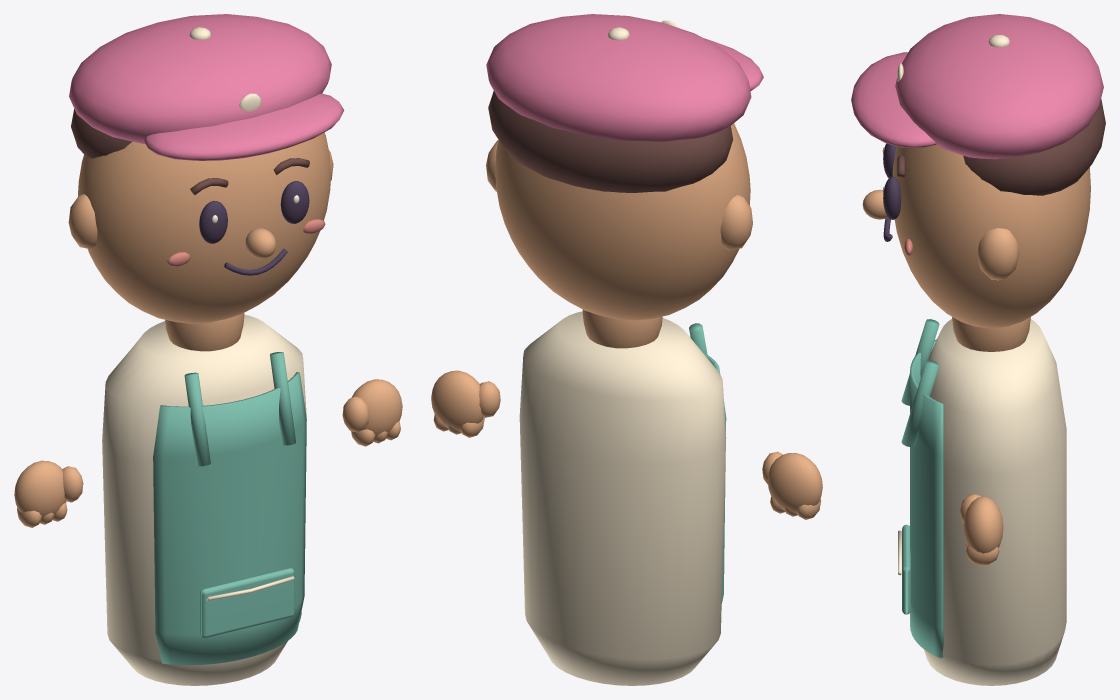
File: Floating_Staff.fbx
3 renders of one model, left to right at view 1: azimuth 30°, elevation 25°; view 2: azimuth 150°, elevation 25°; view 3: azimuth 270°, elevation 25°, orthographic. The views are drawn at different scales.
Parts seen in each view (by area): view 1: People_Floating_crew_Staff Wrap apron.001, People_Floating_crew_Staff Cheek shaped head.001, People_Floating_crew_Staff Tailored torso.001, People_Floating_crew_Staff Cap crown.001, People_Floating_crew_Staff Cap visor.001, People_Floating_crew_Staff Apron pocket.001, People_Floating_crew_Staff Mitten palm.002, People_Floating_crew_Staff Neck.001, People_Floating_crew_Staff Mitten palm.003, People_Floating_crew_Staff Apron strap.002, People_Floating_crew_Staff Hair at nape.001, People_Floating_crew_Staff Apron strap.003 (+6 smaller); view 2: People_Floating_crew_Staff Tailored torso.001, People_Floating_crew_Staff Cheek shaped head.001, People_Floating_crew_Staff Cap crown.001, People_Floating_crew_Staff Hair at nape.001, People_Floating_crew_Staff Mitten palm.002, People_Floating_crew_Staff Mitten palm.003, People_Floating_crew_Staff Neck.001, People_Floating_crew_Staff Ear.002, People_Floating_crew_Staff Cap visor.001, People_Floating_crew_Staff Thumb.003; view 3: People_Floating_crew_Staff Tailored torso.001, People_Floating_crew_Staff Cap crown.001, People_Floating_crew_Staff Cheek shaped head.001, People_Floating_crew_Staff Wrap apron.001, People_Floating_crew_Staff Hair at nape.001, People_Floating_crew_Staff Cap visor.001, People_Floating_crew_Staff Mitten palm.003, People_Floating_crew_Staff Neck.001, People_Floating_crew_Staff Ear.003, People_Floating_crew_Staff Apron strap.003, People_Floating_crew_Staff Apron strap.002, People_Floating_crew_Staff Apron pocket.001 (+3 smaller).
Boxes of the visible parts, bbox=[...] form: People_Floating_crew_Staff Wrap apron.001: bbox=[153, 372, 306, 665]; People_Floating_crew_Staff Cheek shaped head.001: bbox=[78, 132, 330, 323]; People_Floating_crew_Staff Tailored torso.001: bbox=[102, 315, 306, 685]; People_Floating_crew_Staff Cap crown.001: bbox=[69, 14, 331, 144]; People_Floating_crew_Staff Cap visor.001: bbox=[143, 93, 344, 160]; People_Floating_crew_Staff Apron pocket.001: bbox=[200, 568, 294, 637]; People_Floating_crew_Staff Mitten palm.002: bbox=[14, 460, 66, 519]; People_Floating_crew_Staff Neck.001: bbox=[165, 313, 244, 351]; People_Floating_crew_Staff Mitten palm.003: bbox=[351, 379, 402, 437]; People_Floating_crew_Staff Apron strap.002: bbox=[184, 372, 210, 466]; People_Floating_crew_Staff Hair at nape.001: bbox=[71, 109, 132, 158]; People_Floating_crew_Staff Apron strap.003: bbox=[270, 352, 295, 445]; People_Floating_crew_Staff Tailored torso.001: bbox=[519, 311, 726, 685]; People_Floating_crew_Staff Cheek shaped head.001: bbox=[495, 123, 750, 320]; People_Floating_crew_Staff Cap crown.001: bbox=[486, 14, 751, 141]; People_Floating_crew_Staff Hair at nape.001: bbox=[488, 91, 733, 192]; People_Floating_crew_Staff Mitten palm.002: bbox=[767, 452, 822, 514]; People_Floating_crew_Staff Mitten palm.003: bbox=[431, 370, 483, 432]; People_Floating_crew_Staff Neck.001: bbox=[582, 309, 662, 348]; People_Floating_crew_Staff Ear.002: bbox=[720, 195, 752, 250]; People_Floating_crew_Staff Cap visor.001: bbox=[704, 38, 763, 91]; People_Floating_crew_Staff Thumb.003: bbox=[479, 381, 500, 417]; People_Floating_crew_Staff Tailored torso.001: bbox=[923, 319, 1066, 685]; People_Floating_crew_Staff Cap crown.001: bbox=[895, 14, 1103, 159]; People_Floating_crew_Staff Cheek shaped head.001: bbox=[892, 145, 1090, 328]; People_Floating_crew_Staff Wrap apron.001: bbox=[910, 339, 943, 658]; People_Floating_crew_Staff Hair at nape.001: bbox=[963, 99, 1105, 195]; People_Floating_crew_Staff Cap visor.001: bbox=[851, 52, 936, 147]; People_Floating_crew_Staff Mitten palm.003: bbox=[963, 496, 1003, 553]; People_Floating_crew_Staff Neck.001: bbox=[952, 317, 1030, 351]; People_Floating_crew_Staff Ear.003: bbox=[977, 228, 1019, 280]; People_Floating_crew_Staff Apron strap.003: bbox=[901, 360, 939, 447]; People_Floating_crew_Staff Apron strap.002: bbox=[901, 319, 939, 405]; People_Floating_crew_Staff Apron pocket.001: bbox=[902, 524, 910, 614].
Size of the model in its own units: 99.16 by 154 by 57.6.
